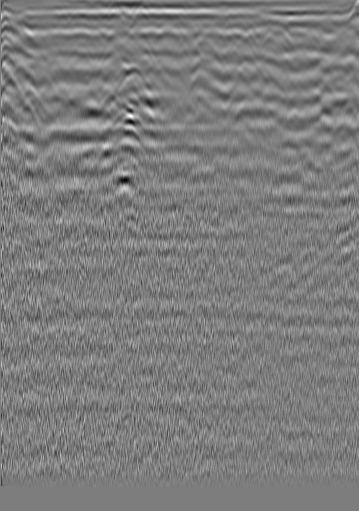가스: (109, 169, 137, 199)
상수: (15, 21, 35, 41)
오수: (300, 22, 320, 42)
우수: (158, 22, 178, 42)
